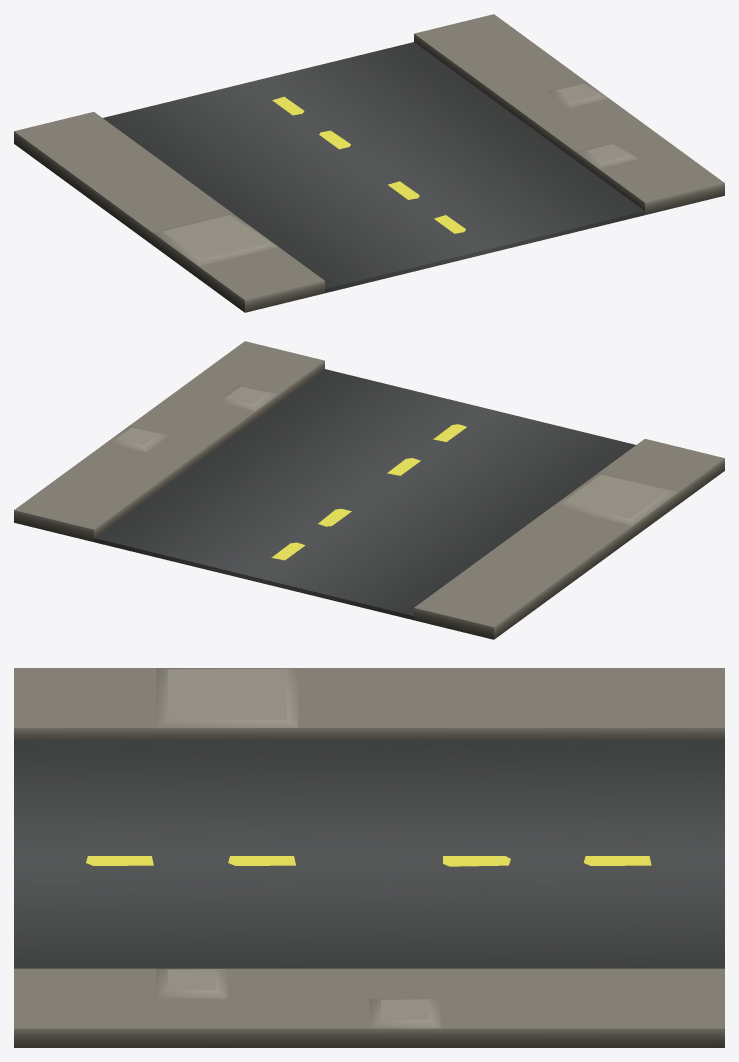
The model's file is Road_1A_-2.fbx.
3 views of the same model, one above another, from view 1: azimuth 30°, elevation 25°; view 2: azimuth 150°, elevation 25°; view 3: azimuth 270°, elevation 25° (orthographic). The views are drawn at different scales.
Parts seen in each view (by area): view 1: Road_1A_-2; view 2: Road_1A_-2; view 3: Road_1A_-2.
Boxes of the visible parts, x1=… form: Road_1A_-2: x1=14, y1=14, x2=724, y2=312; Road_1A_-2: x1=14, y1=341, x2=724, y2=639; Road_1A_-2: x1=14, y1=668, x2=724, y2=1047.
Bounding box in the file's own units: 12 × 0.3565 × 10.
